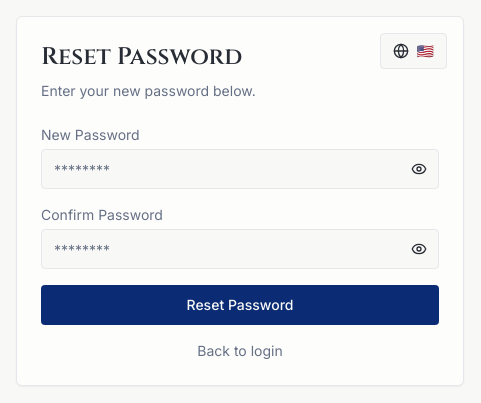
ResetPassword page › shows success message and redirects after successful reset
Type "NewSecurePass123!" into the password field labelled "New Password". click: (240, 169)
box: [41,149,439,189]
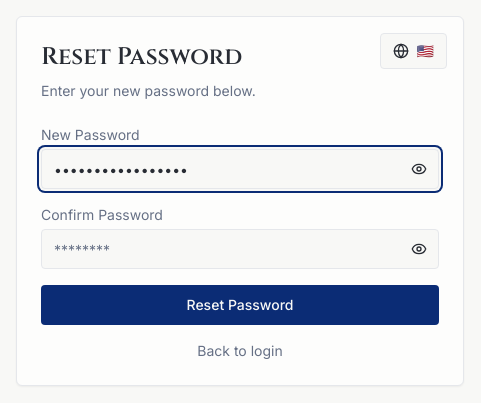
Type "NewSecurePass123!" into the password field labelled "Confirm Password". click: (240, 249)
box: [41,229,439,269]
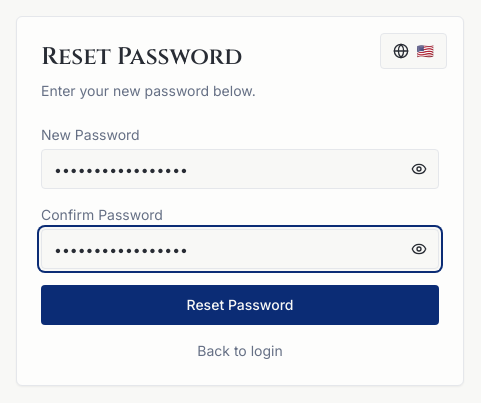
Click the button "Reset Password". click: (240, 305)
box: [41,285,439,325]
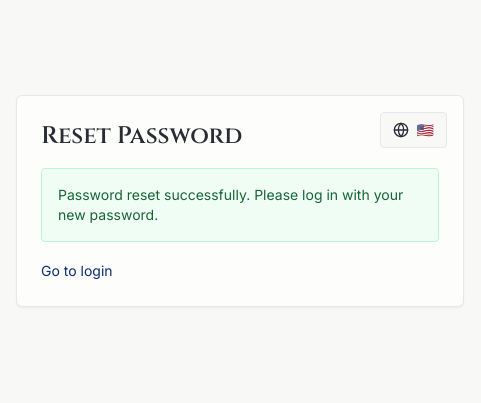
Now the text "Password reset successfully. Please log in with your new password." is shown, box [58,185,422,225]
Now the link "Go to login" is shown, box [41,262,113,279]
